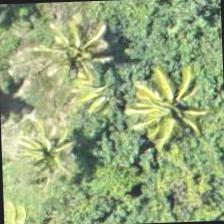Kelapa_Sawit: (30, 4, 122, 98), (122, 62, 214, 156), (0, 108, 89, 201)
